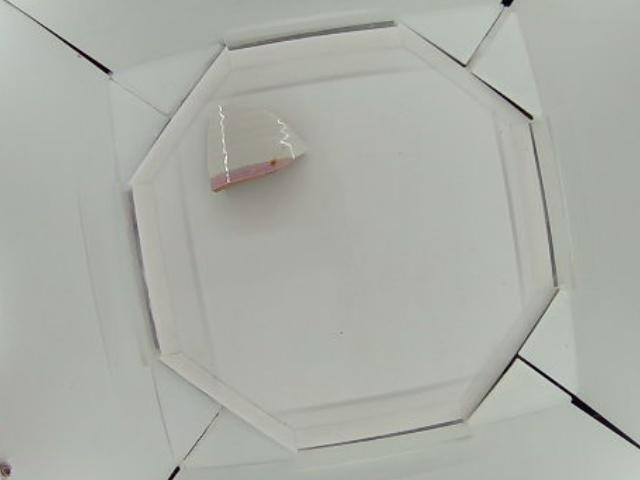China: (209, 103, 306, 192)
